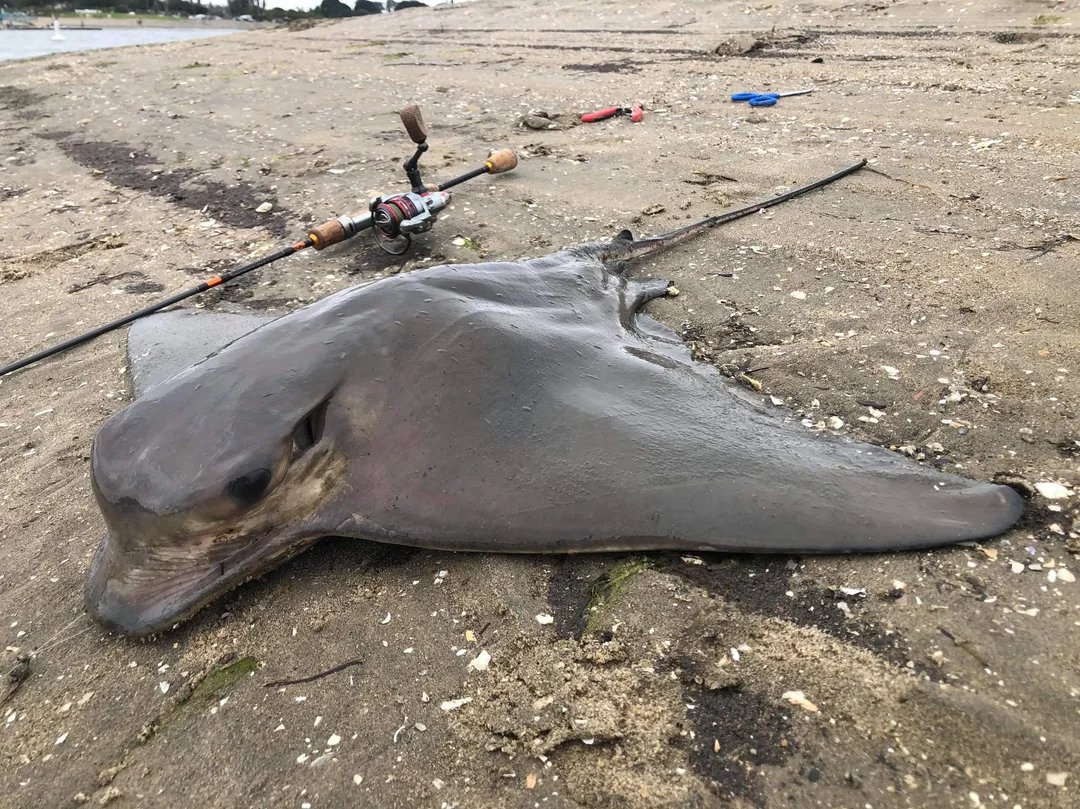Bat Ray: (27, 155, 1080, 681)
